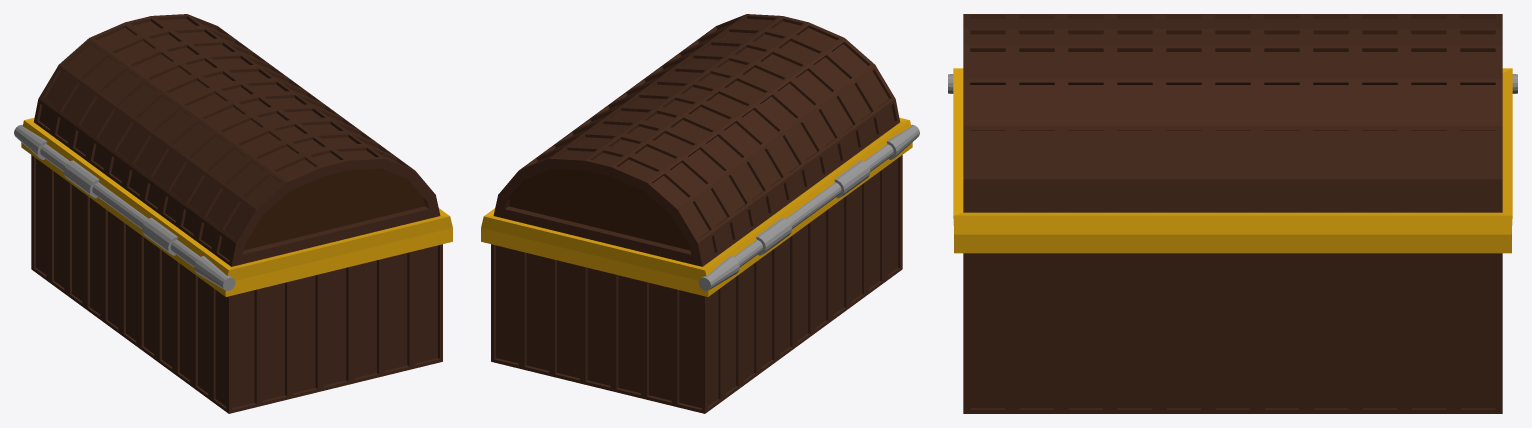
Rendered from Cofre.fbx.
The picture shows the model from 3 angles, left to right: view 1: azimuth 30°, elevation 25°; view 2: azimuth 150°, elevation 25°; view 3: azimuth 270°, elevation 25°; orthographic projection. The views are drawn at different scales.
Visible parts, largest first — view 1: Cofre.001, Cofre; view 2: Cofre.001, Cofre; view 3: Cofre.001, Cofre.
Boxes of the visible parts, x1,y1,x2,y2 form: Cofre.001: [14, 14, 452, 290]; Cofre: [21, 142, 452, 413]; Cofre.001: [481, 14, 919, 290]; Cofre: [481, 142, 912, 413]; Cofre.001: [948, 14, 1517, 234]; Cofre: [954, 233, 1511, 413].
Size of the model in its own units: 0.5669 by 0.5166 by 0.8735.
